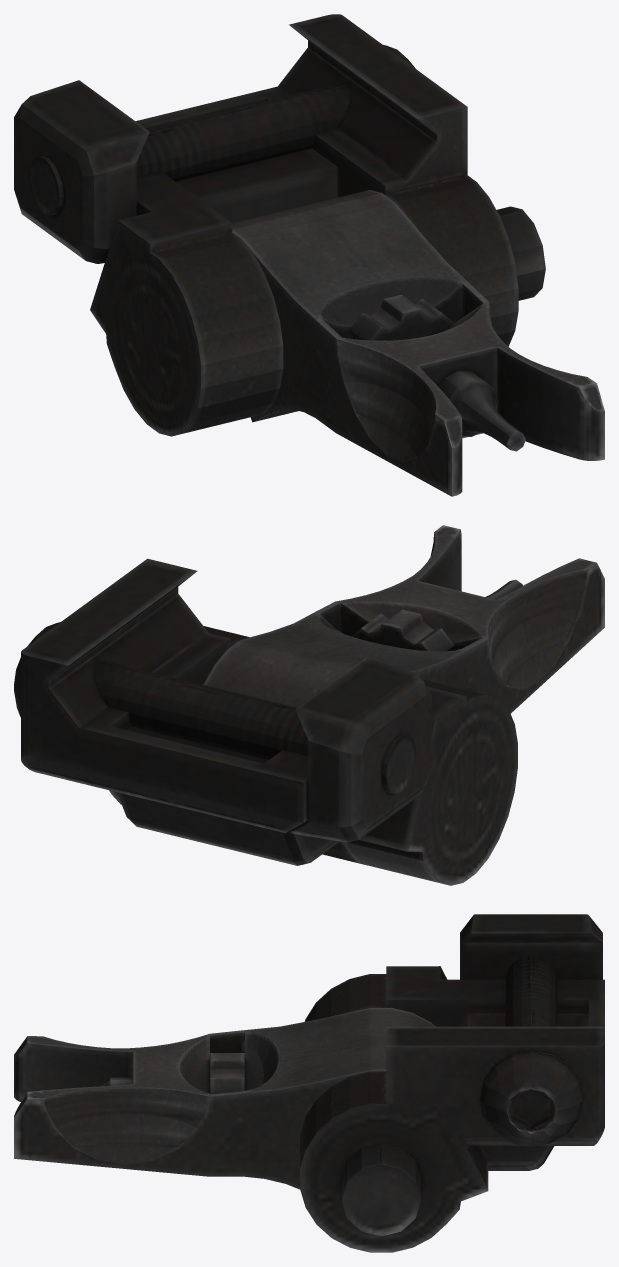
3 views of the same model, one above another, from view 1: azimuth 30°, elevation 25°; view 2: azimuth 150°, elevation 25°; view 3: azimuth 270°, elevation 25° (orthographic). The views are drawn at different scales.
Parts seen in each view (by area): view 1: TW_5fc0fa362770a0045c59c677_folded_PZ_Import; view 2: TW_5fc0fa362770a0045c59c677_folded_PZ_Import; view 3: TW_5fc0fa362770a0045c59c677_folded_PZ_Import.
Part boxes in pixels (x1=…): TW_5fc0fa362770a0045c59c677_folded_PZ_Import: x1=14, y1=14, x2=604, y2=496; TW_5fc0fa362770a0045c59c677_folded_PZ_Import: x1=14, y1=525, x2=604, y2=885; TW_5fc0fa362770a0045c59c677_folded_PZ_Import: x1=14, y1=914, x2=604, y2=1252.
Bounding box in the file's own units: 0.0186 × 0.0289 × 0.0113.
Materials: 1 (1 with a texture image).
